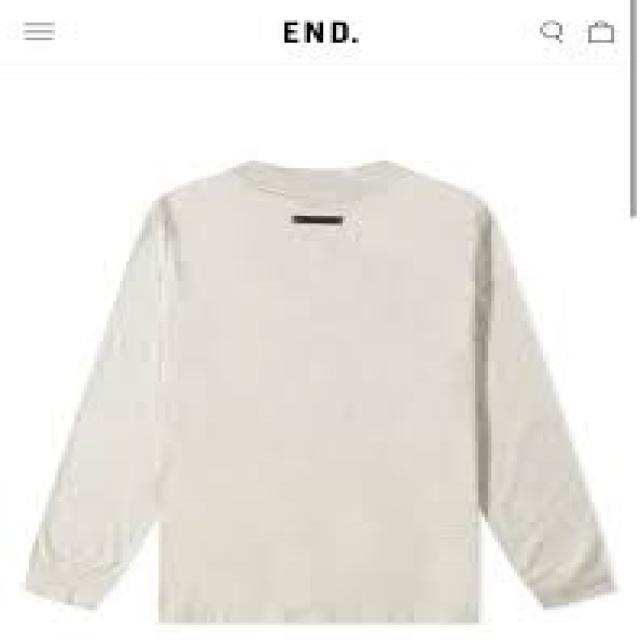plain: (21, 150, 632, 634)
